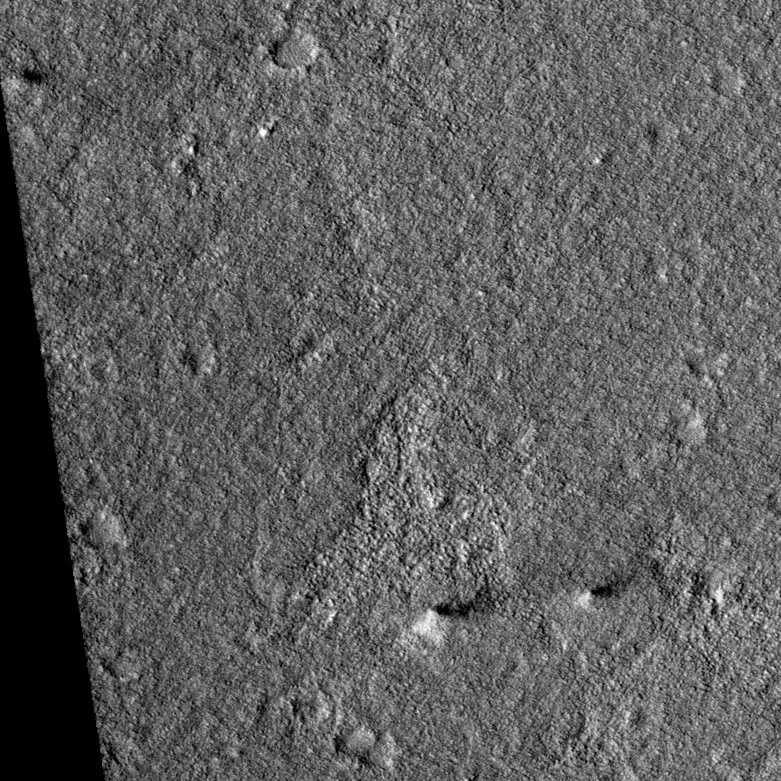dust_devil: (409, 586, 508, 649), (573, 577, 628, 614), (2, 65, 45, 93)
